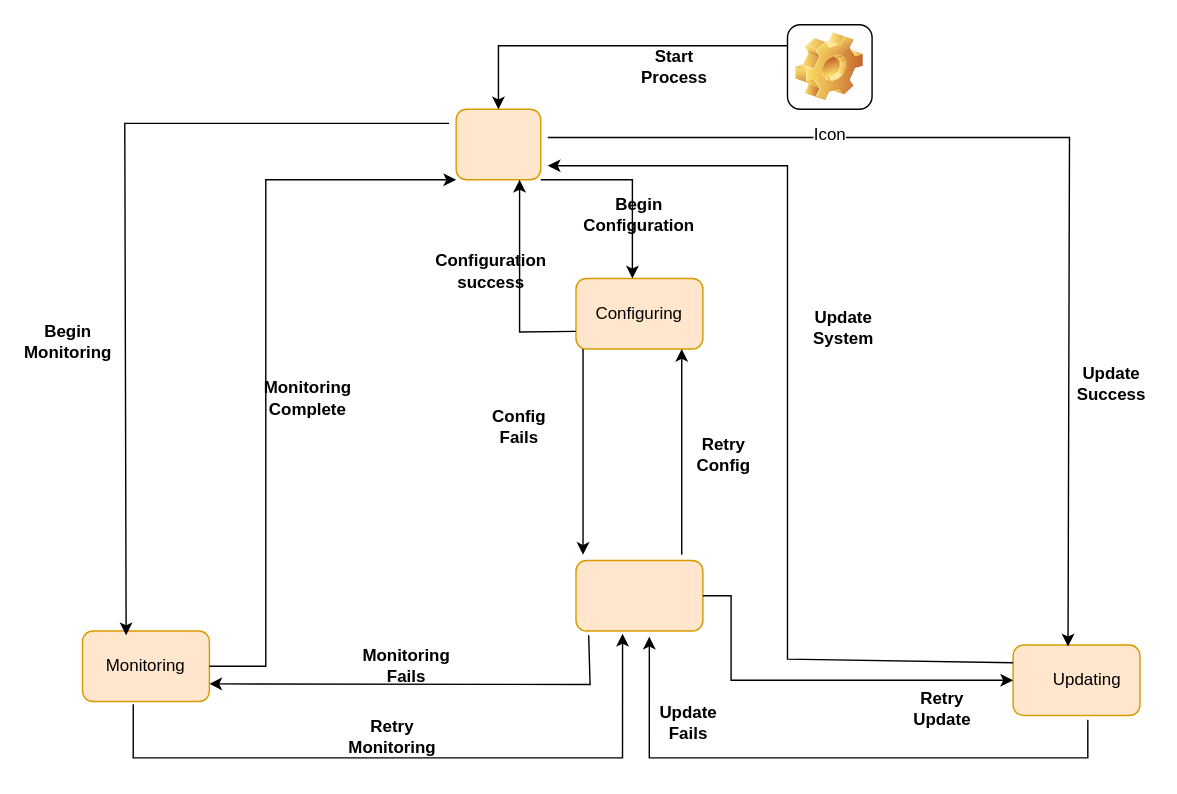
Image size: 1177x794. Some labels were removed from this diagram. Each missing label, with the centre of its shape:
"Error" goes at point (639, 595).
"Idle" goes at point (498, 144).
